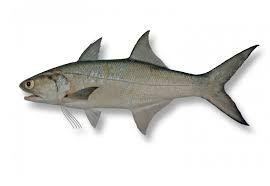Fourfinger Threadfish: (18, 28, 261, 136)
